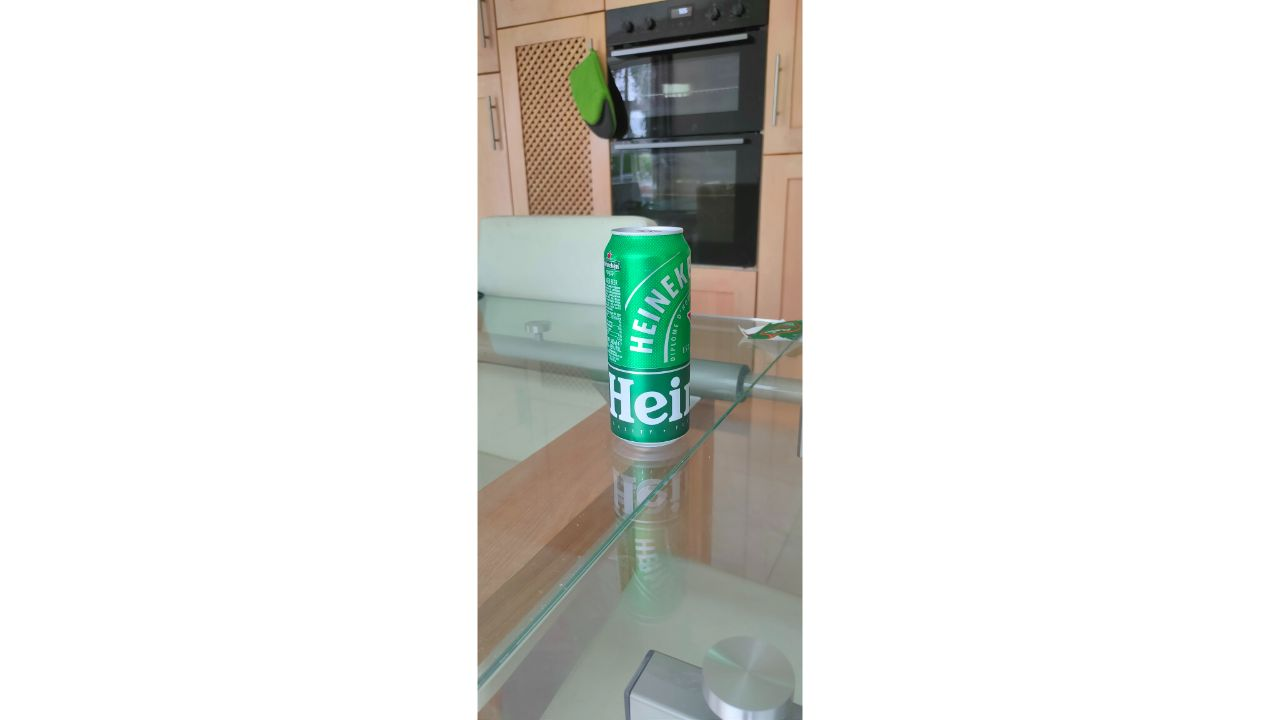Can: (603, 227, 695, 451)
